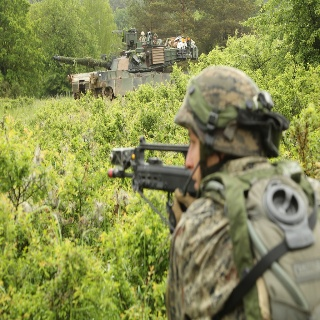rifle: (106, 136, 201, 199)
